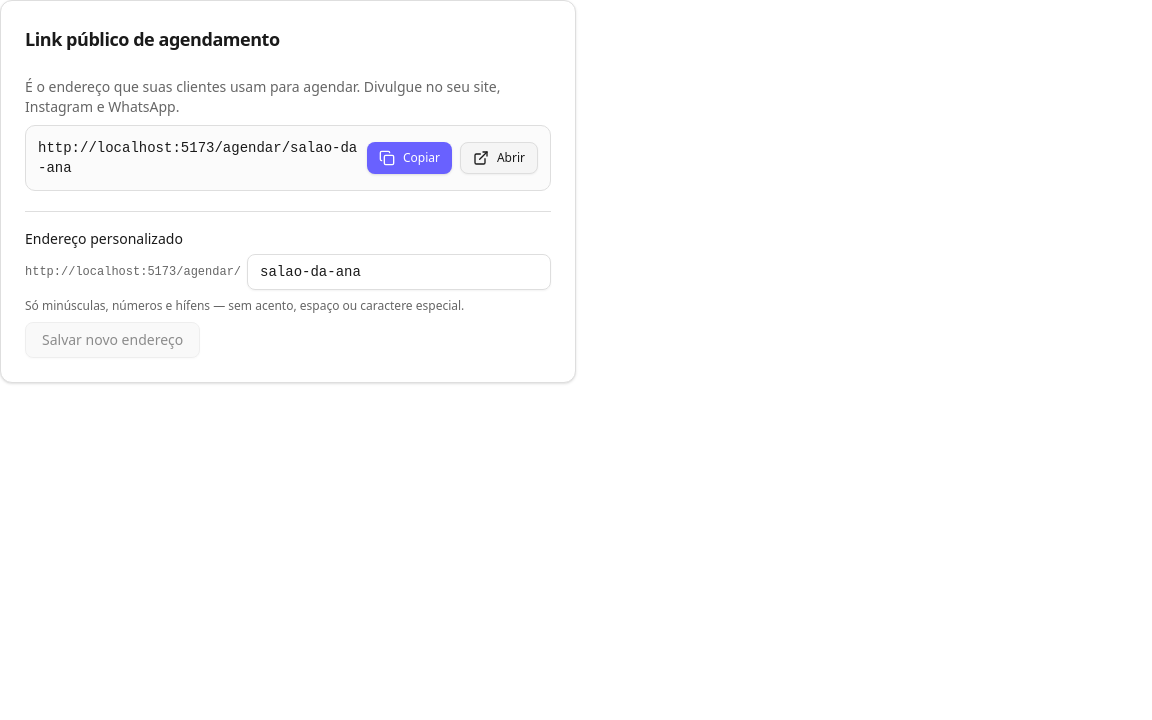
it: PublicLinkCard › endereço em uso → mostra a mensagem real (409)
Check: the text "http://localhost:5173/agendar/salao-da-ana" is shown, box [38, 138, 359, 178]
Replace the text in the field labelled "Endereço personalizado" with "ocupado": (399, 272) [247, 254, 551, 290]
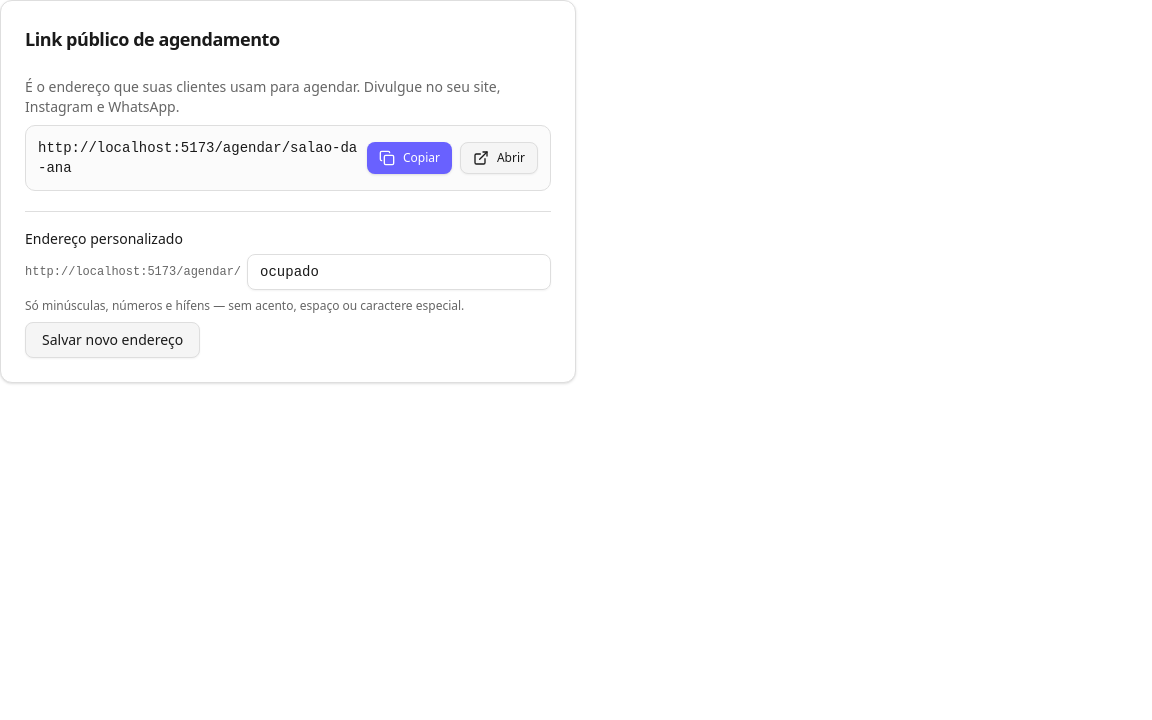
Click the button "Salvar novo endereço": (113, 340) [25, 322, 200, 358]
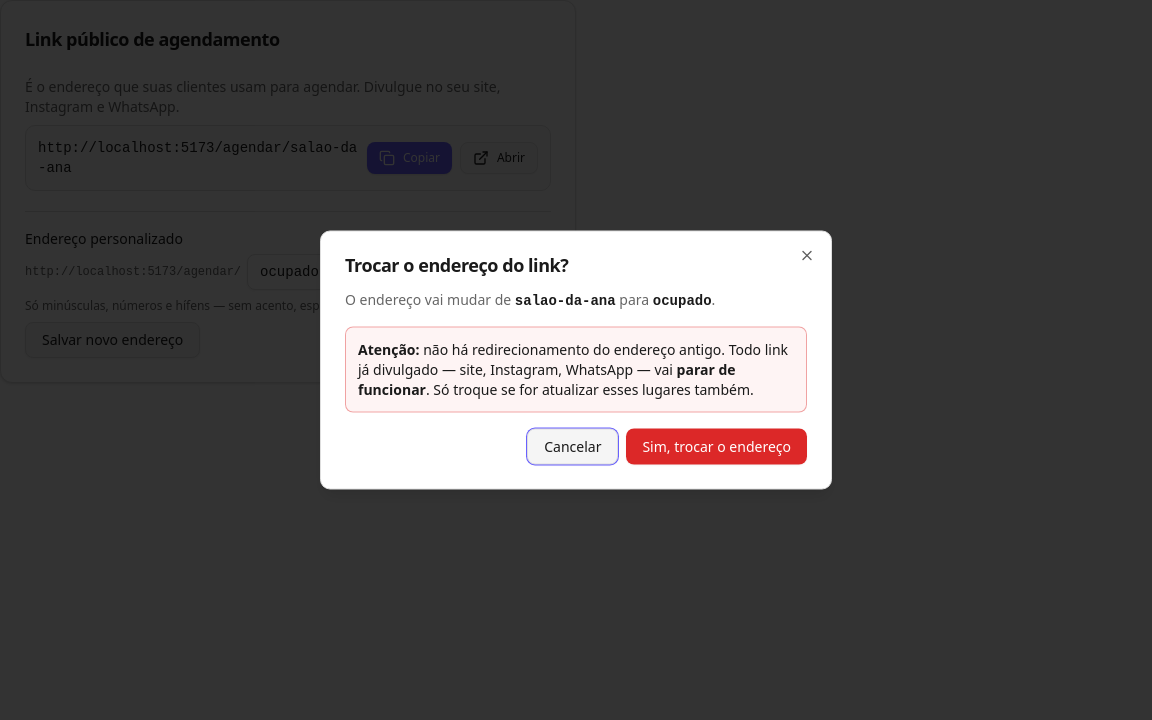
Check: the heading "Trocar o endereço do link?" is shown, box [345, 252, 568, 276]
Click the button "Sim, trocar o endereço": (717, 446) [626, 428, 807, 464]
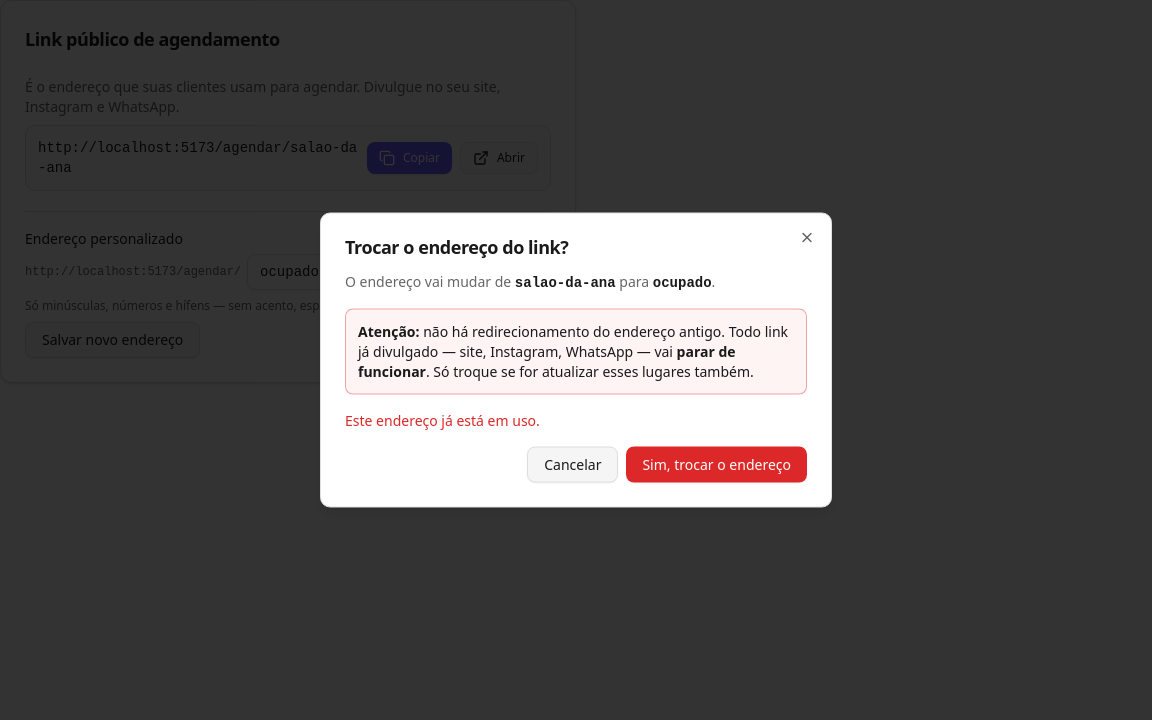
Check: the text "Este endereço já está em uso." is shown, box [345, 410, 540, 430]
